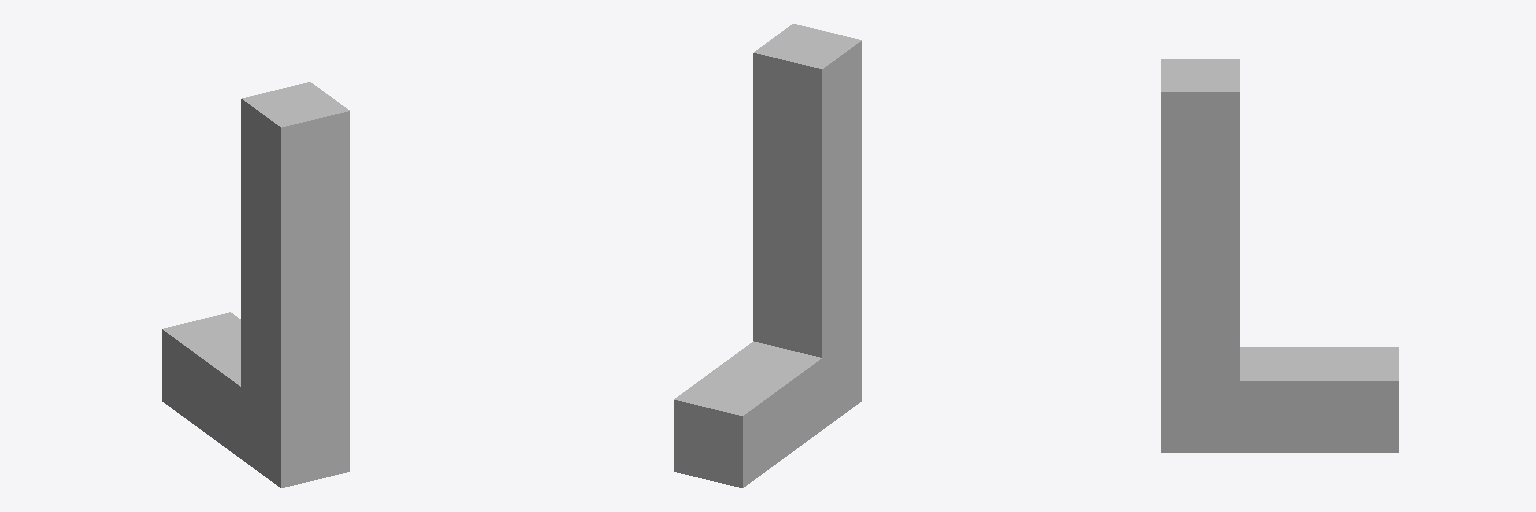
Rendered from character_l.obj.
3 views of the same model, side by side, from view 1: azimuth 30°, elevation 25°; view 2: azimuth 150°, elevation 25°; view 3: azimuth 270°, elevation 25° (orthographic).
Parts seen in each view (by area): view 1: Cube.001; view 2: Cube.001; view 3: Cube.001.
Part boxes in pixels (x1,y1,x2,y2): Cube.001: (162,82,349,487); Cube.001: (674,24,861,487); Cube.001: (1161,59,1398,452).
Bounding box in the file's own units: 6 × 30 × 18.